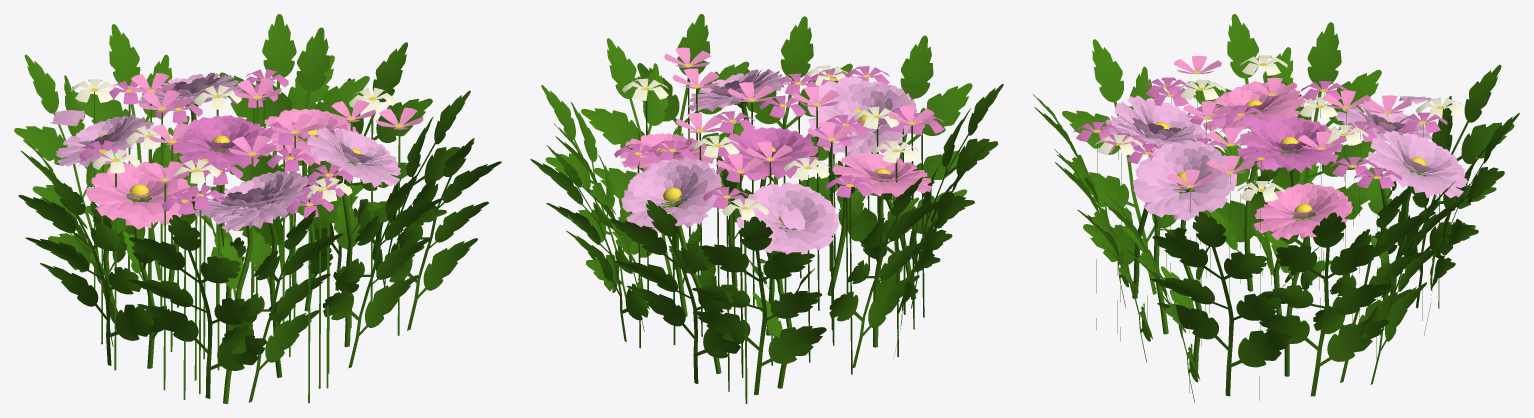
3 views of the same model, side by side, from view 1: azimuth 30°, elevation 25°; view 2: azimuth 150°, elevation 25°; view 3: azimuth 270°, elevation 25° (orthographic). The views are drawn at different scales.
Visible parts, largest first — view 1: flowers.001; view 2: flowers.001; view 3: flowers.001.
Part boxes in pixels (x1,y1,x2,y2): flowers.001: (14,14,501,403); flowers.001: (530,14,1003,403); flowers.001: (1033,14,1519,402).
Size of the model in its own units: 95.09 by 49.4 by 96.91.
1 material, 1 textured.
